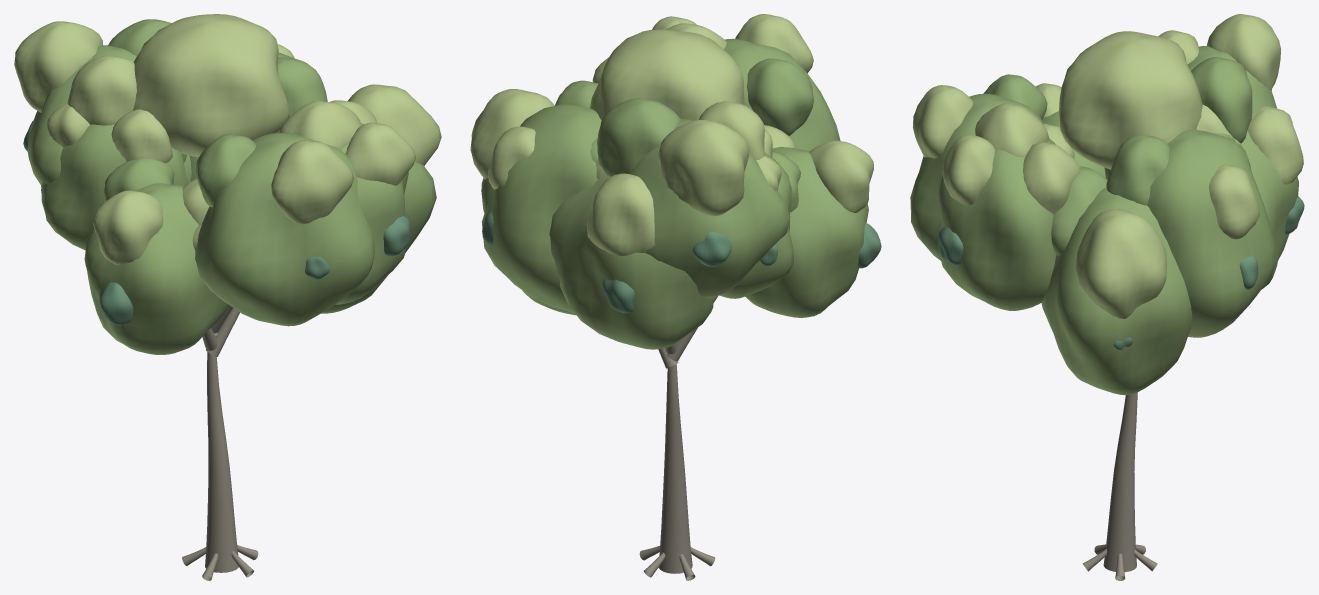
Rendered from diotree21.glb.
3 renders of one model, left to right at view 1: azimuth 30°, elevation 25°; view 2: azimuth 150°, elevation 25°; view 3: azimuth 270°, elevation 25°, orthographic. The views are drawn at different scales.
Parts seen in each view (by area): view 1: DioTree21_DioLeaf, DioTree21_DioLeafLight, DioTree21_Trunk, DioTree21_DioLeafShade; view 2: DioTree21_DioLeaf, DioTree21_DioLeafLight, DioTree21_Trunk, DioTree21_DioLeafShade; view 3: DioTree21_DioLeaf, DioTree21_DioLeafLight, DioTree21_Trunk, DioTree21_DioLeafShade.
Part boxes in pixels (x1,y1,x2,y2): DioTree21_DioLeaf: (27, 19, 436, 354); DioTree21_DioLeafLight: (14, 14, 441, 265); DioTree21_Trunk: (182, 305, 258, 580); DioTree21_DioLeafShade: (23, 121, 409, 325); DioTree21_DioLeaf: (481, 38, 868, 349); DioTree21_DioLeafLight: (470, 14, 873, 256); DioTree21_Trunk: (639, 296, 717, 580); DioTree21_DioLeafShade: (482, 210, 881, 313); DioTree21_DioLeaf: (910, 46, 1298, 395); DioTree21_DioLeafLight: (913, 14, 1303, 318); DioTree21_Trunk: (1082, 392, 1157, 580); DioTree21_DioLeafShade: (938, 196, 1304, 350).
Size of the model in its own units: 7.43 by 10.29 by 7.
